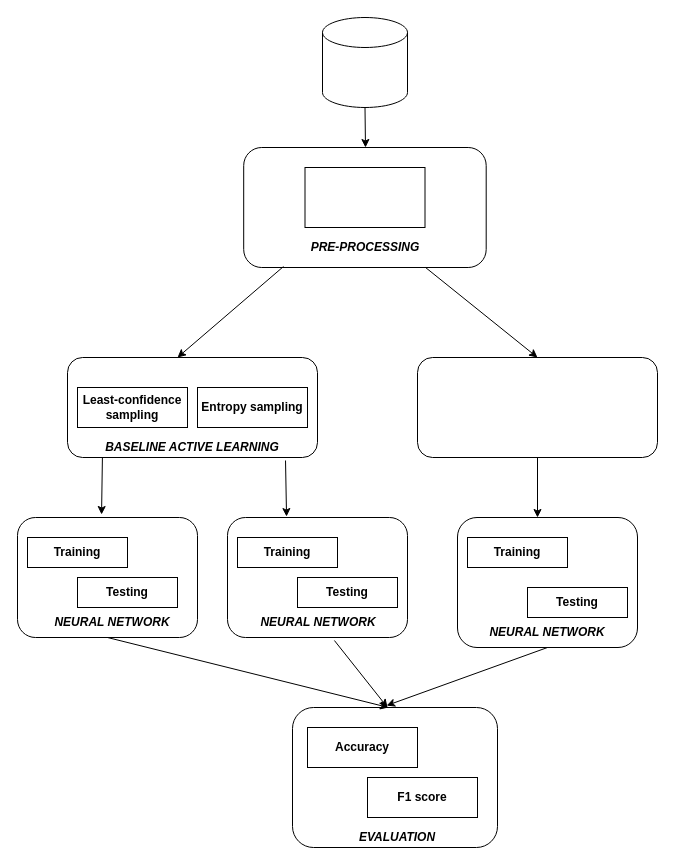
The diagram is 675 pixels wide and 865 high, and some of its shapes have lost their labels. The shapes that lost their labels are listed below. From the top down, each one's centre as x and y in pixels, then its label:
At (365,62): "Dataset".
At (364,197): "Feature-scaling".
At (537,407): "RANSAC Algorithm".
